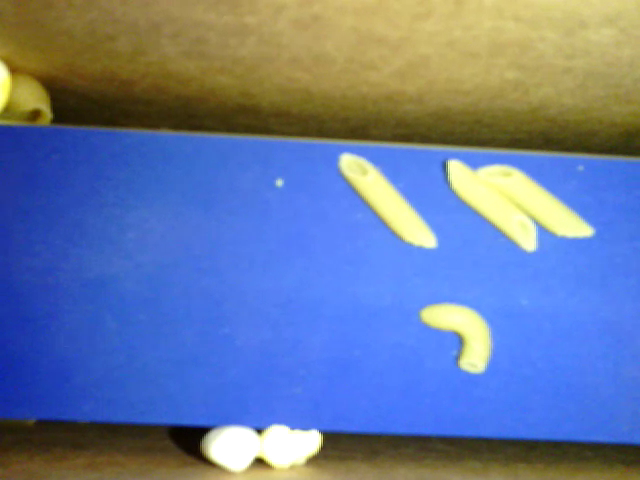elbow: (419, 303, 492, 374)
penne: (337, 149, 437, 250), (448, 158, 539, 254), (479, 166, 595, 238)
shell: (5, 70, 55, 126)
